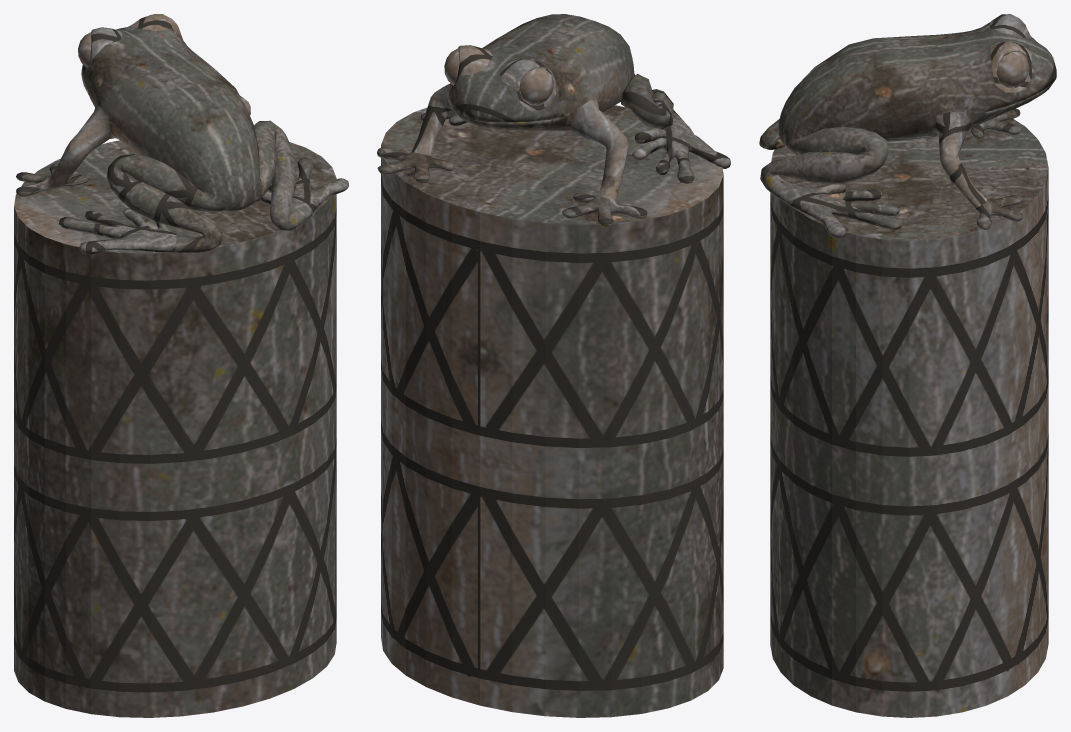
File: Totem-Sapo.fbx
3 renders of one model, left to right at view 1: azimuth 30°, elevation 25°; view 2: azimuth 150°, elevation 25°; view 3: azimuth 270°, elevation 25°, orthographic. The views are drawn at different scales.
Visible parts, largest first — view 1: Totem Base.009; view 2: Totem Base.009; view 3: Totem Base.009.
Part boxes in pixels (x1=…): Totem Base.009: x1=14, y1=14, x2=348, y2=717; Totem Base.009: x1=377, y1=14, x2=730, y2=717; Totem Base.009: x1=759, y1=14, x2=1056, y2=717.
Bounding box in the file's own units: 2 × 3.9 × 1.71.
Materials: 1 (1 with a texture image).
